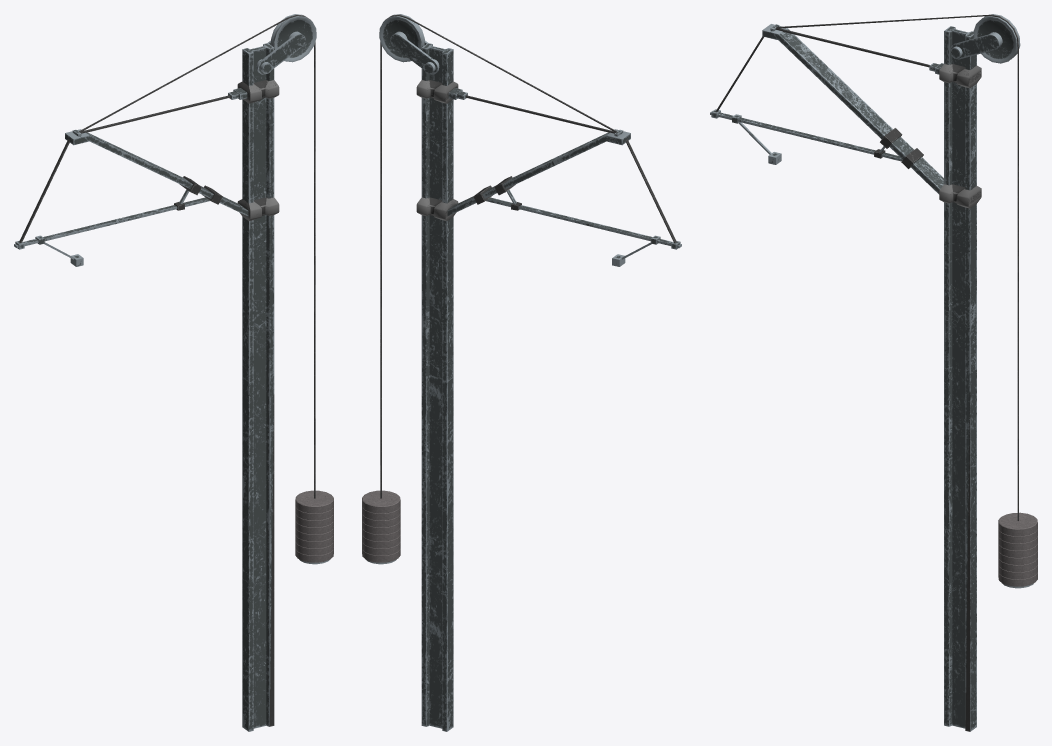
Rendered from SM_ElectricPole_01.FBX.
The picture shows the model from 3 angles, left to right: view 1: azimuth 30°, elevation 25°; view 2: azimuth 150°, elevation 25°; view 3: azimuth 330°, elevation 25°; orthographic projection. The views are drawn at different scales.
Parts seen in each view (by area): view 1: SM_ElectricPole_01; view 2: SM_ElectricPole_01; view 3: SM_ElectricPole_01.
Part boxes in pixels (x1,y1,x2,y2): SM_ElectricPole_01: [14, 14, 333, 731]; SM_ElectricPole_01: [362, 14, 681, 731]; SM_ElectricPole_01: [710, 14, 1037, 731].
Size of the model in its own units: 5.22 by 11.08 by 0.5559.
Materials: 1 (1 with a texture image).
